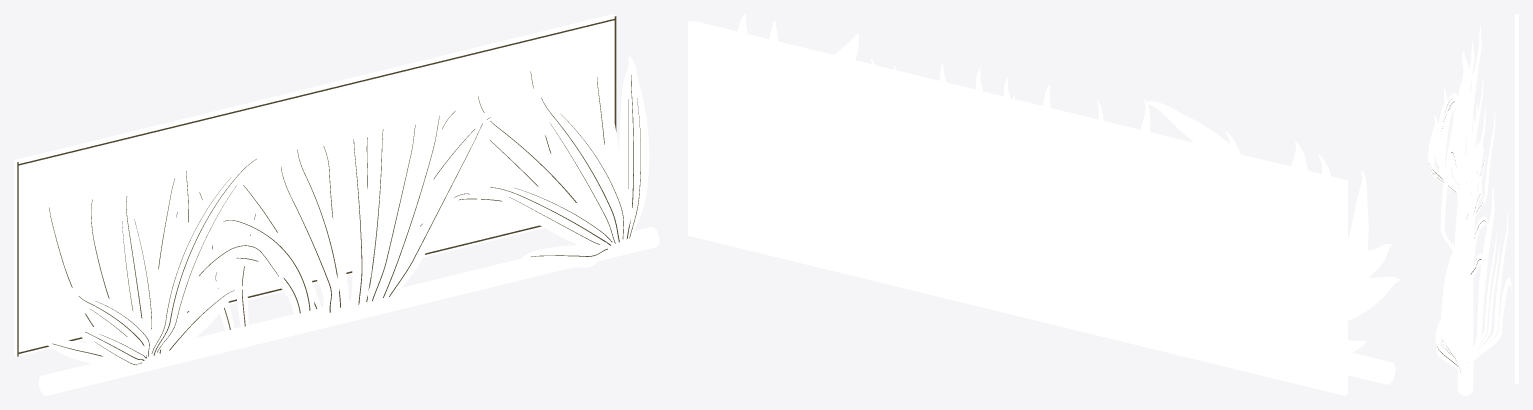
The model's file is grass.glb.
3 renders of one model, left to right at view 1: azimuth 30°, elevation 25°; view 2: azimuth 150°, elevation 25°; view 3: azimuth 270°, elevation 25°, orthographic. The views are drawn at different scales.
Parts seen in each view (by area): view 1: PANEL, GROUND, R1, L08, L02, R2, R5, R7, C3, C5, C1, C7 (+26 smaller); view 2: PANEL, L03, L08, L05, GROUND; view 3: PANEL, R1, GROUND, R7, L02, R5, L08, R2, C1, R6, L07, L05 (+26 smaller).
Boxes of the visible parts, bbox=[...] form: PANEL: bbox=[14, 14, 615, 356]; GROUND: bbox=[38, 227, 659, 395]; R1: bbox=[533, 79, 632, 244]; L08: bbox=[149, 147, 279, 356]; L02: bbox=[112, 176, 161, 335]; R2: bbox=[471, 180, 611, 245]; R5: bbox=[619, 56, 649, 238]; R7: bbox=[472, 71, 583, 206]; C3: bbox=[348, 120, 372, 304]; C5: bbox=[367, 104, 418, 301]; C1: bbox=[277, 145, 339, 313]; C7: bbox=[386, 100, 489, 297]; PANEL: bbox=[688, 20, 1347, 395]; L03: bbox=[1348, 170, 1368, 307]; L08: bbox=[1144, 101, 1231, 151]; L05: bbox=[1348, 276, 1399, 320]; GROUND: bbox=[1348, 353, 1395, 384]; PANEL: bbox=[1514, 14, 1518, 383]; R1: bbox=[1447, 201, 1467, 370]; GROUND: bbox=[1457, 155, 1473, 395]; R7: bbox=[1468, 187, 1494, 366]; L02: bbox=[1451, 51, 1469, 186]; R5: bbox=[1455, 240, 1469, 373]; L08: bbox=[1439, 93, 1458, 192]; R2: bbox=[1441, 242, 1456, 360]; C1: bbox=[1440, 105, 1455, 249]; R6: bbox=[1471, 210, 1508, 362]; L07: bbox=[1459, 72, 1474, 180]; L05: bbox=[1428, 115, 1457, 194].
Size of the model in its own units: 5.07 by 1.65 by 0.8617.
